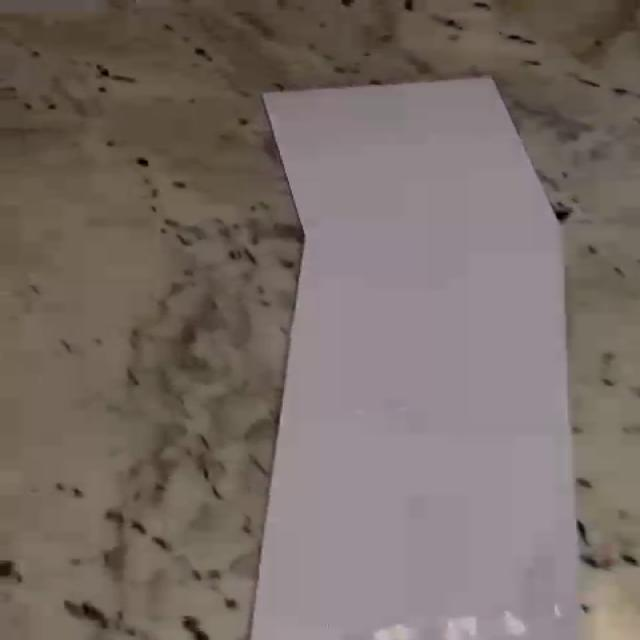road: (248, 76, 581, 640)
